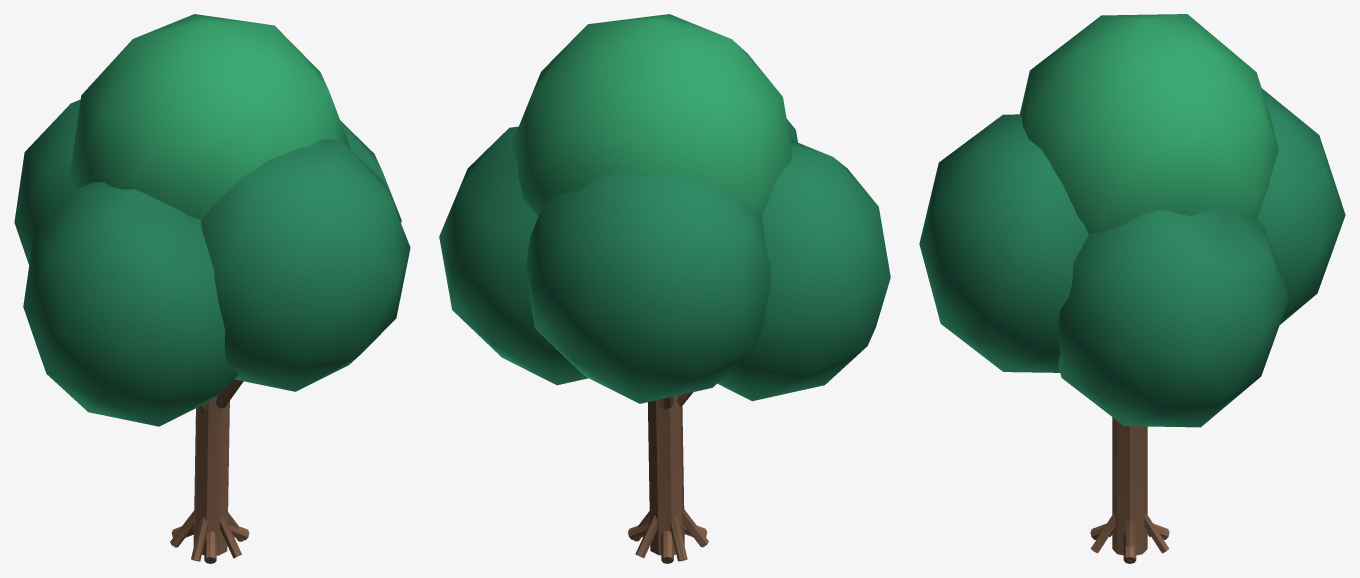
File: tree-oak.glb
The picture shows the model from 3 angles, left to right: view 1: azimuth 30°, elevation 25°; view 2: azimuth 150°, elevation 25°; view 3: azimuth 270°, elevation 25°; orthographic projection. The views are drawn at different scales.
Visible parts, largest first — view 1: rounded crown, rounded crown.004, branch; view 2: rounded crown, rounded crown.004, branch; view 3: rounded crown, rounded crown.004, branch.
Boxes of the visible parts, x1,y1,x2,y2 form: rounded crown: [14, 99, 410, 426]; rounded crown.004: [69, 14, 350, 220]; branch: [170, 379, 249, 563]; rounded crown: [439, 119, 890, 403]; rounded crown.004: [511, 14, 792, 215]; branch: [628, 392, 708, 563]; rounded crown: [919, 88, 1345, 427]; rounded crown.004: [1019, 14, 1278, 234]; branch: [1090, 417, 1169, 563].
Size of the model in its own units: 2.46 by 3.29 by 2.4.
